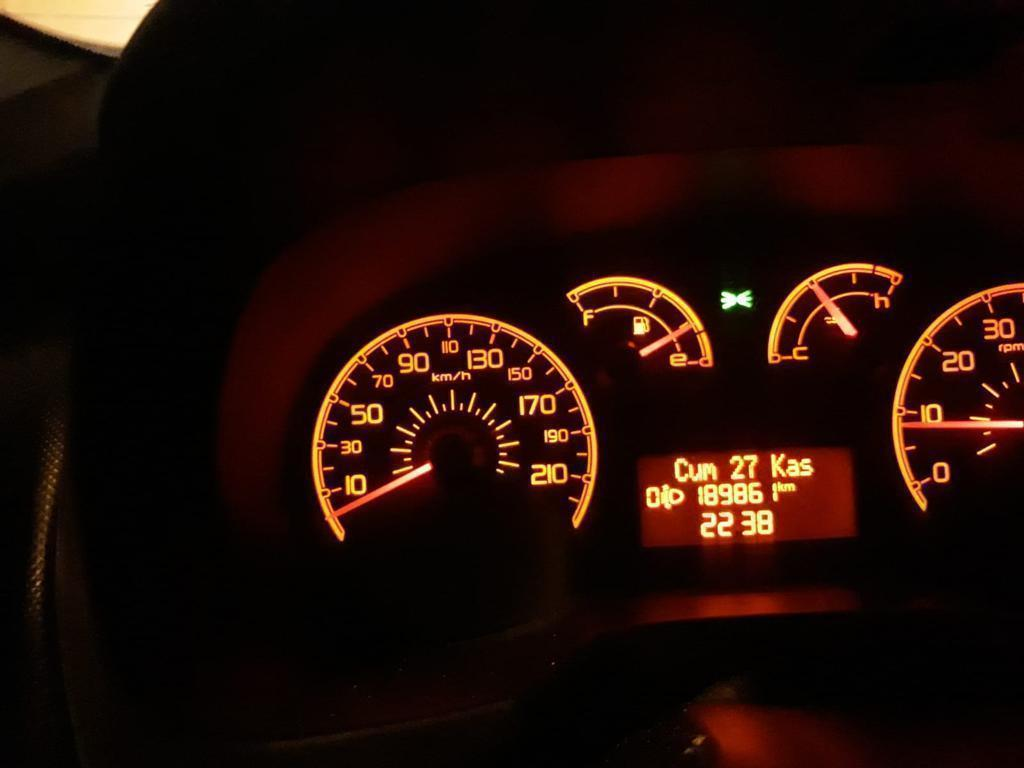0: (645, 486, 659, 508)
1: (771, 482, 778, 502), (697, 485, 703, 505)
2: (716, 511, 733, 537), (699, 512, 716, 538), (729, 454, 745, 480)
3: (739, 510, 756, 536)
6: (748, 481, 763, 504)
7: (743, 454, 757, 478)
8: (756, 509, 774, 535), (703, 483, 718, 506), (733, 482, 747, 505)
9: (718, 482, 732, 505)
X: (770, 452, 786, 477), (673, 456, 688, 482), (702, 462, 717, 481), (799, 457, 814, 476), (785, 458, 799, 477), (688, 463, 702, 481), (784, 482, 795, 491), (777, 480, 784, 491)
odometer: (634, 446, 864, 550)
